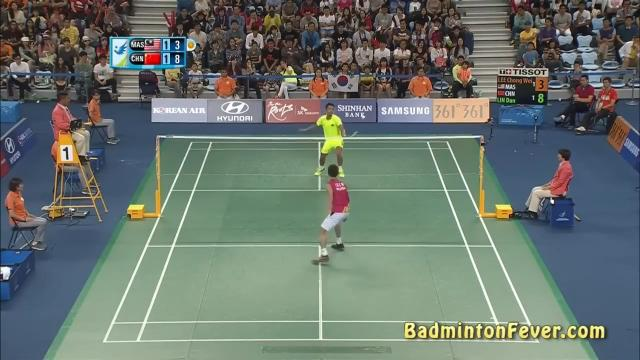Shuttlecock: (361, 112, 367, 120)
